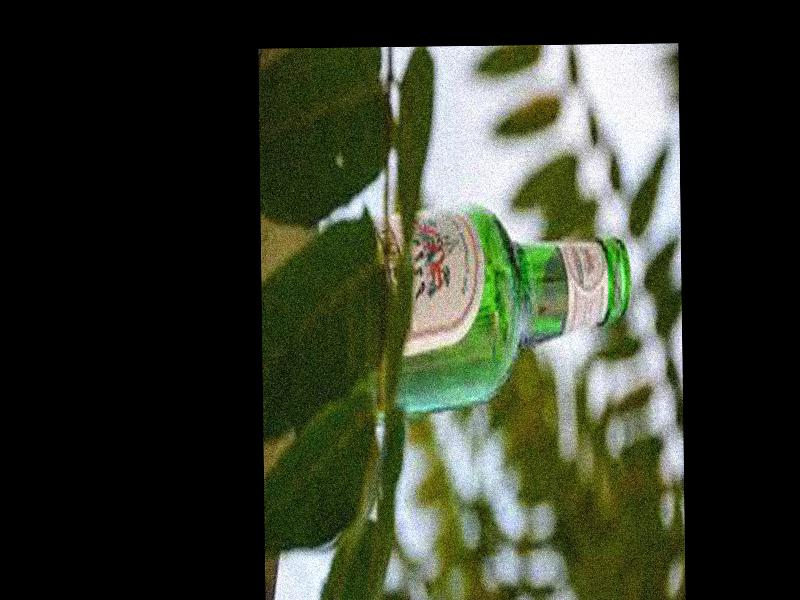Beer: (368, 205, 632, 411)
